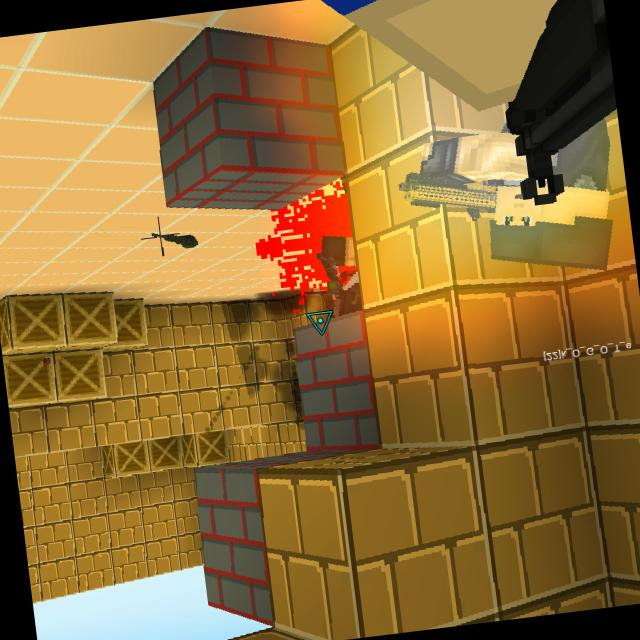enemy: (312, 178, 364, 316)
